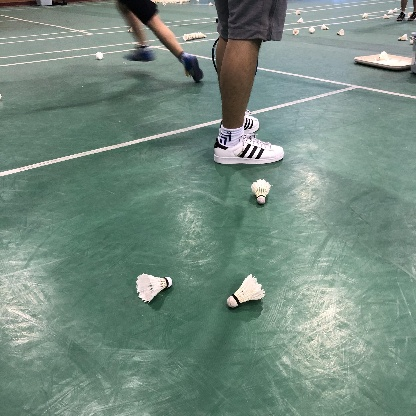ball_single: (227, 274, 266, 308), (136, 273, 173, 303), (251, 179, 271, 204), (183, 32, 207, 41), (398, 34, 408, 40), (96, 52, 103, 60), (337, 29, 344, 36), (321, 24, 329, 30), (293, 29, 299, 35), (309, 27, 315, 33), (297, 17, 303, 23), (296, 10, 300, 15)
